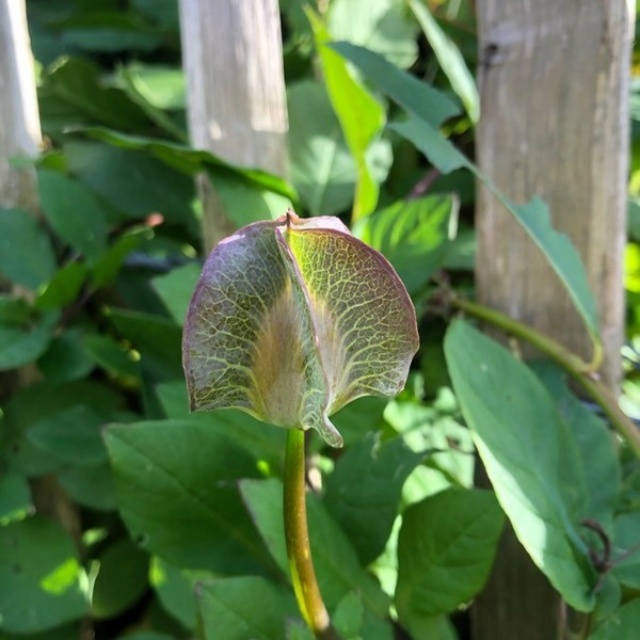obstacle: (128, 205, 490, 612)
